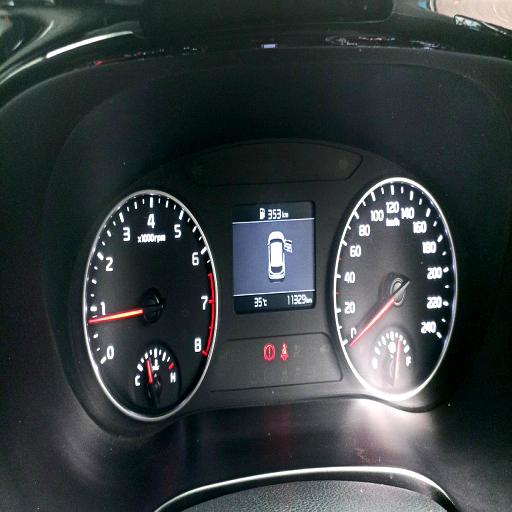belt: (280, 343, 289, 362)
brake_system_fault: (264, 342, 275, 361)
tachometer: (83, 191, 218, 422)
